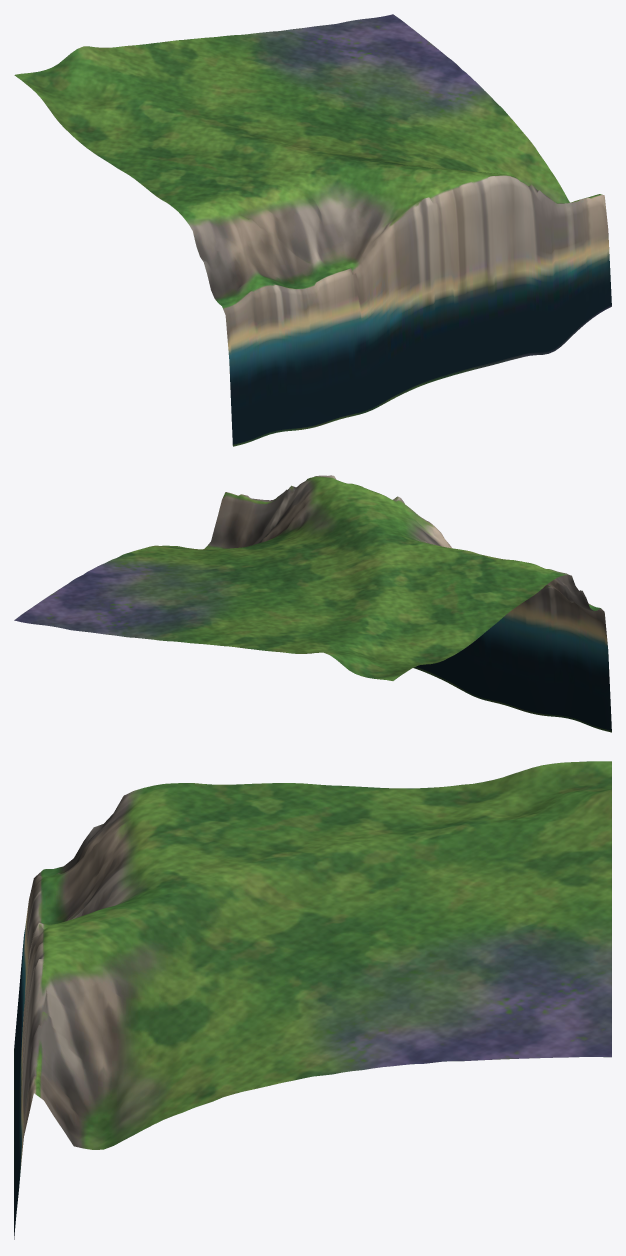
The picture shows the model from 3 angles, top to bottom: view 1: azimuth 30°, elevation 25°; view 2: azimuth 150°, elevation 25°; view 3: azimuth 270°, elevation 25°; orthographic projection. The views are drawn at different scales.
Parts seen in each view (by area): view 1: t064_000; view 2: t064_000; view 3: t064_000.
Part boxes in pixels (left/top/right/bottom): t064_000: left=14, top=14, right=611, bottom=446; t064_000: left=14, top=475, right=611, bottom=732; t064_000: left=14, top=761, right=611, bottom=1239.
Size of the model in its own units: 64 by 36.09 by 64.
Materials: 1 (1 with a texture image).
